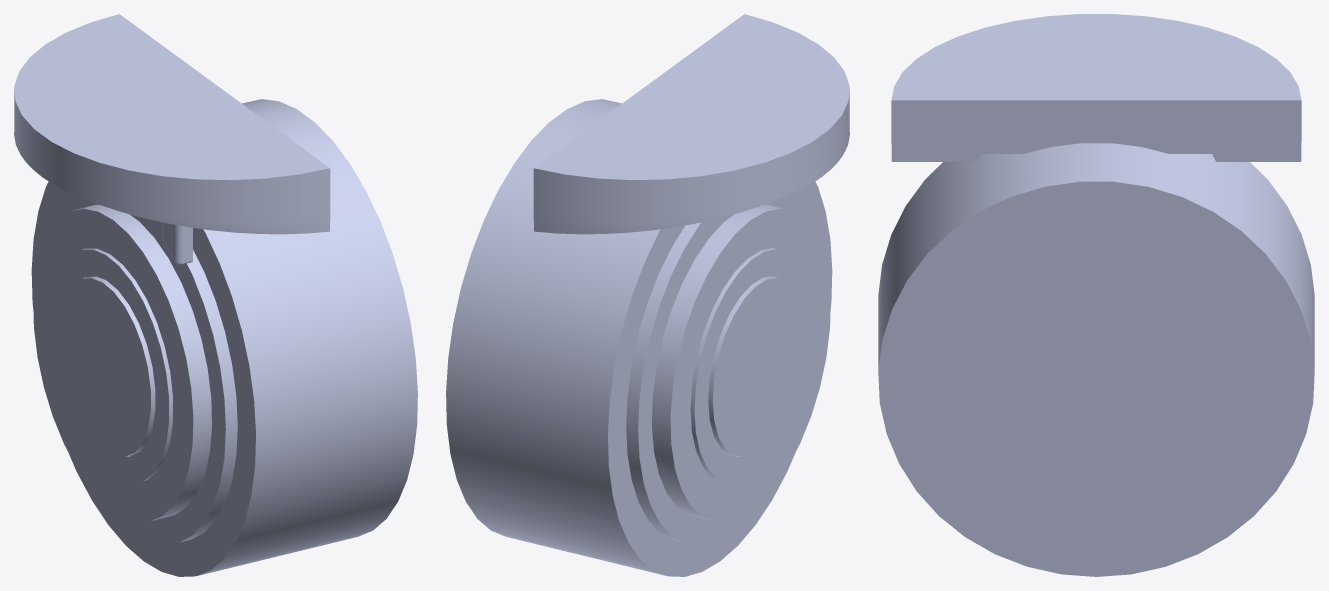
3 renders of one model, left to right at view 1: azimuth 30°, elevation 25°; view 2: azimuth 150°, elevation 25°; view 3: azimuth 270°, elevation 25°, orthographic. The views are drawn at different scales.
Visible parts, largest first — view 1: Body1; view 2: Body1; view 3: Body1.
Part boxes in pixels (left/top/right/bottom): Body1: left=14, top=14, right=417, bottom=576; Body1: left=446, top=14, right=849, bottom=576; Body1: left=878, top=14, right=1314, bottom=576.
Bounding box in the file's own units: 0.0664 × 0.1085 × 0.098.
